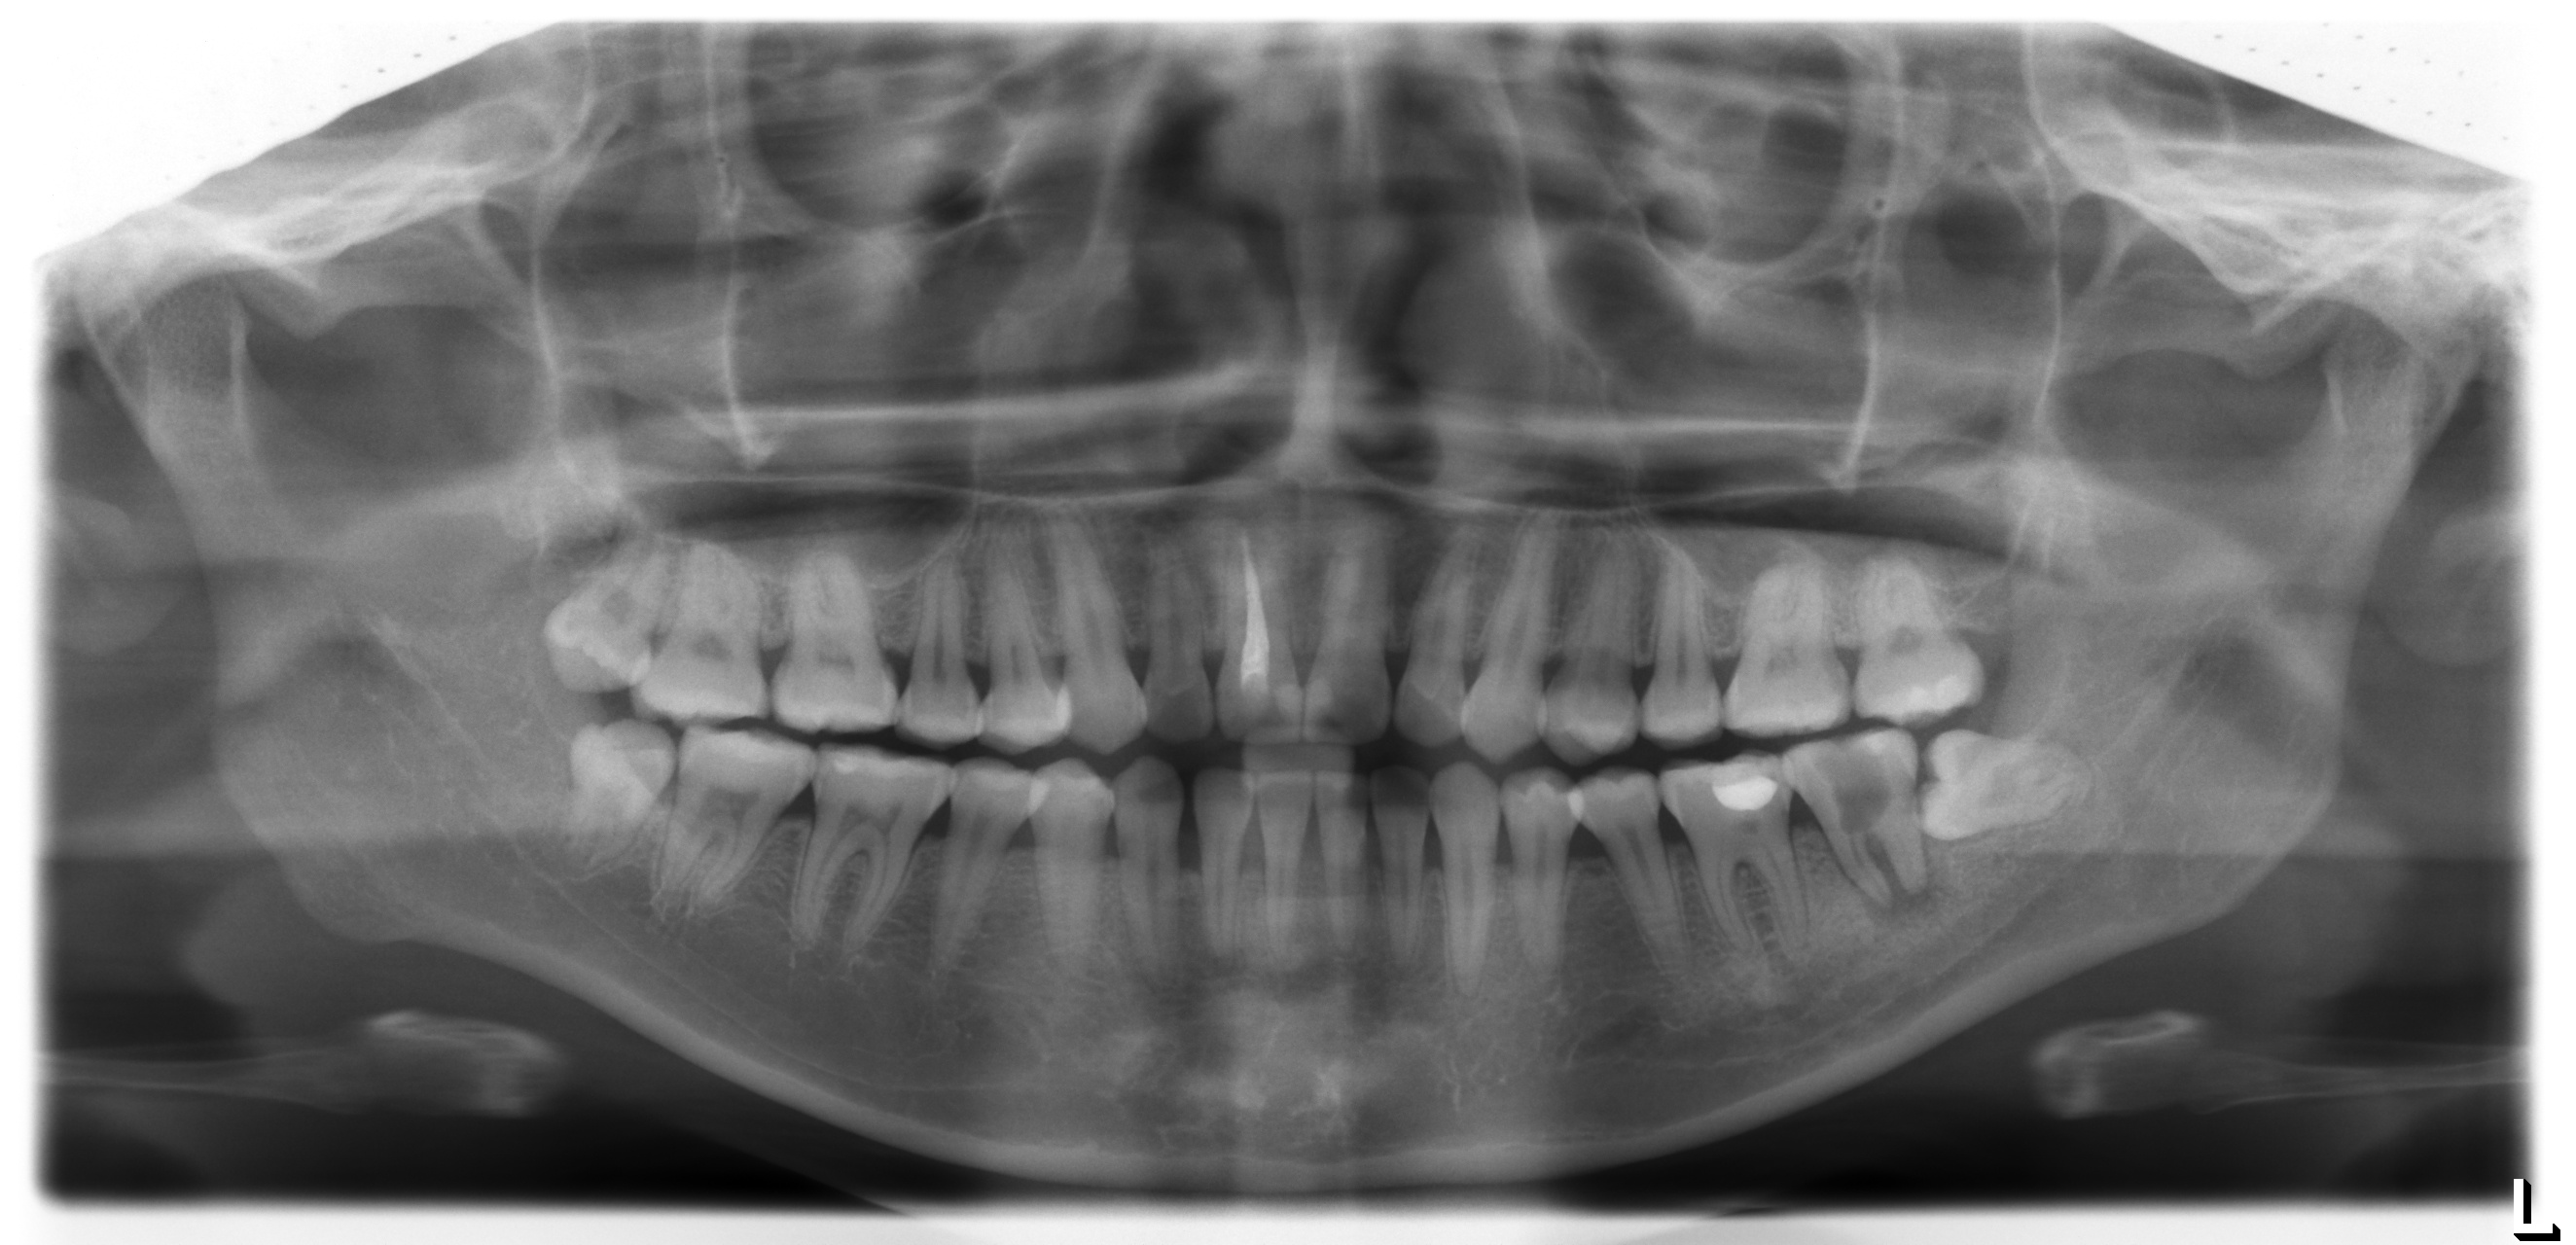Decay: (1820, 737, 1899, 836)
